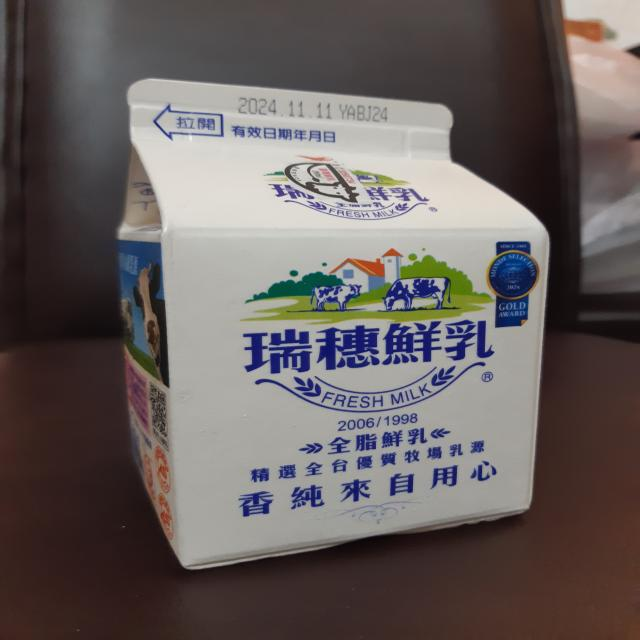RuiSui_Milk: (99, 66, 551, 573)
